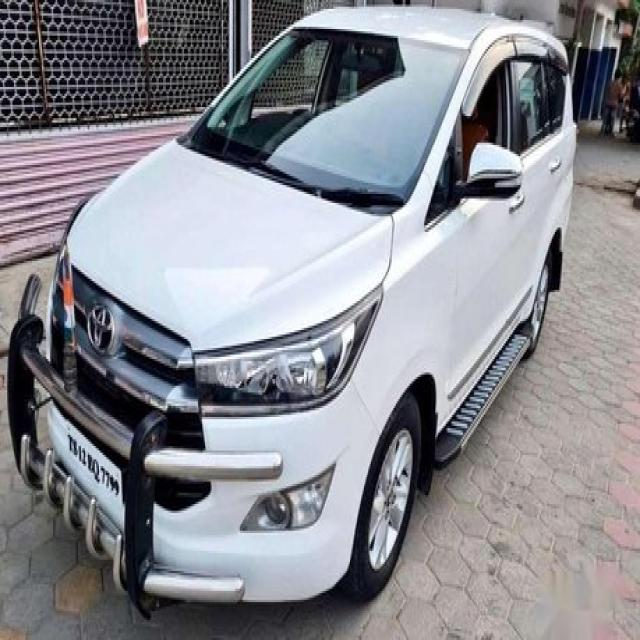light_vehicle: (6, 4, 578, 616)
